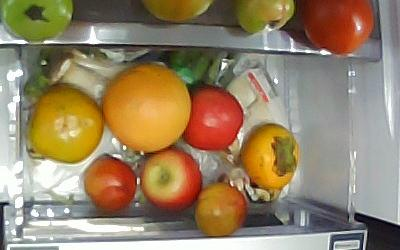apple: (182, 82, 243, 152), (142, 146, 202, 213)
grapefruit: (102, 62, 192, 155)
persimmon: (27, 84, 103, 165), (242, 121, 301, 194)
prune: (82, 155, 137, 214), (193, 182, 248, 236)
